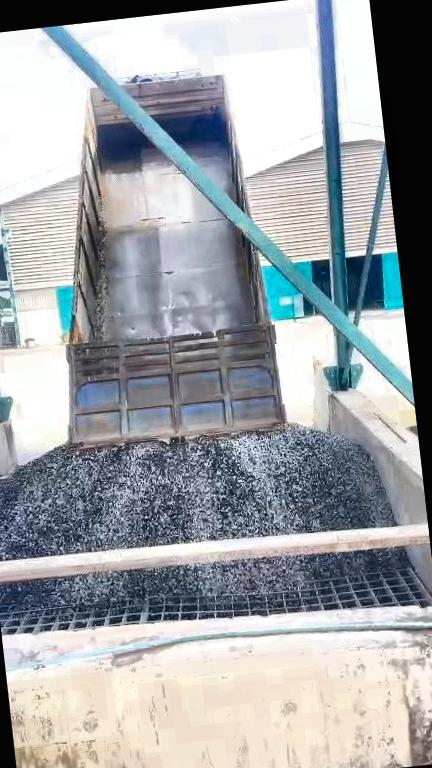gravel: (0, 425, 393, 559), (0, 550, 407, 606)
